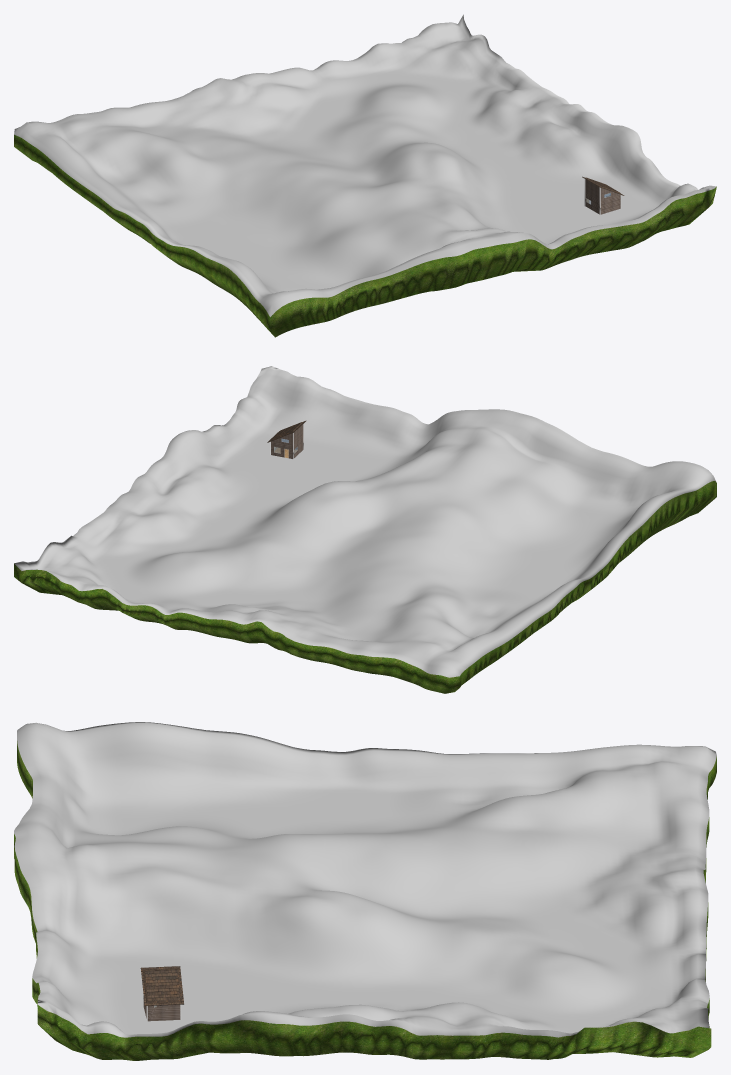
Rendered from floor.gltf.
3 views of the same model, one above another, from view 1: azimuth 30°, elevation 25°; view 2: azimuth 150°, elevation 25°; view 3: azimuth 270°, elevation 25° (orthographic). The views are drawn at different scales.
Parts seen in each view (by area): view 1: Grid, house; view 2: Grid, house; view 3: Grid, house.
Part boxes in pixels (x1,y1,x2,y2): Grid: [14, 14, 716, 337]; house: [582, 176, 624, 214]; Grid: [14, 366, 716, 693]; house: [267, 420, 306, 458]; Grid: [14, 722, 716, 1060]; house: [140, 966, 183, 1021].
Size of the model in its own units: 104 by 17.18 by 105.
